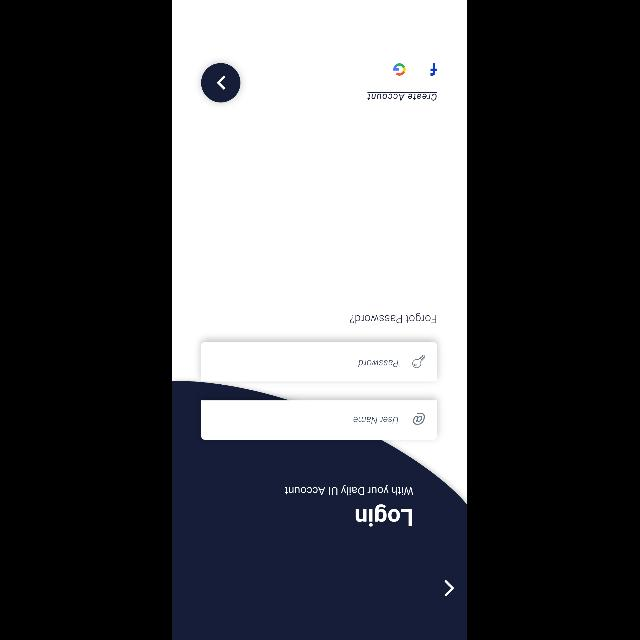icon: (202, 64, 240, 102), (412, 354, 426, 368), (445, 580, 455, 596), (414, 413, 426, 425), (394, 63, 406, 75), (432, 63, 438, 75)
input: (202, 400, 438, 440), (202, 342, 438, 382)
text: (286, 484, 414, 496), (356, 504, 412, 526), (351, 312, 437, 324), (368, 92, 438, 100), (354, 416, 400, 424), (359, 359, 399, 366)
